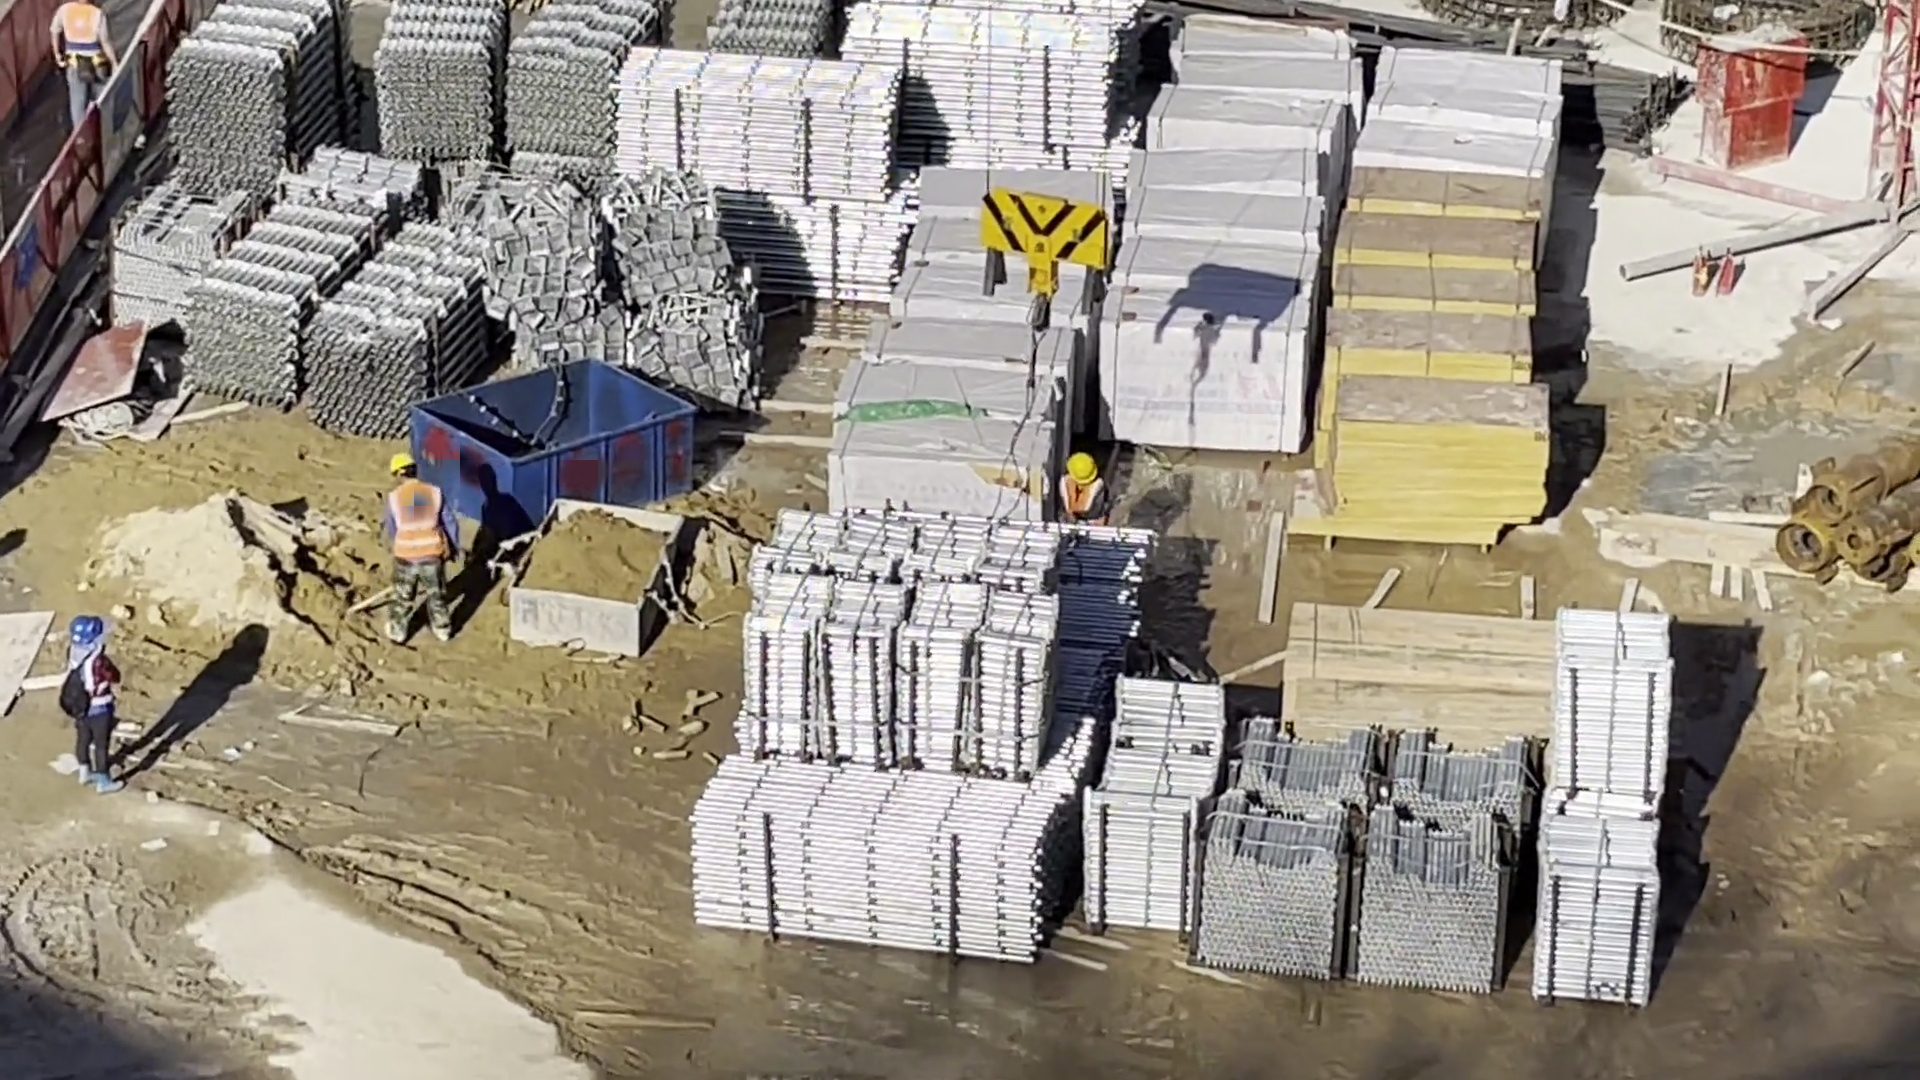helmet: (379, 443, 423, 494), (61, 603, 102, 655), (1066, 447, 1104, 493)
hook: (969, 181, 1122, 313)
hopper: (416, 340, 703, 490), (498, 486, 658, 628)
person: (359, 463, 467, 660), (51, 617, 138, 797), (44, 1, 112, 126), (1053, 439, 1119, 538)
scaffold: (598, 1, 1104, 292), (759, 517, 1057, 968), (1186, 683, 1500, 971), (1532, 613, 1683, 1003), (185, 212, 436, 386), (361, 1, 578, 156), (169, 1, 332, 199)
vest: (388, 491, 449, 566), (51, 6, 105, 63), (1058, 482, 1113, 526)
